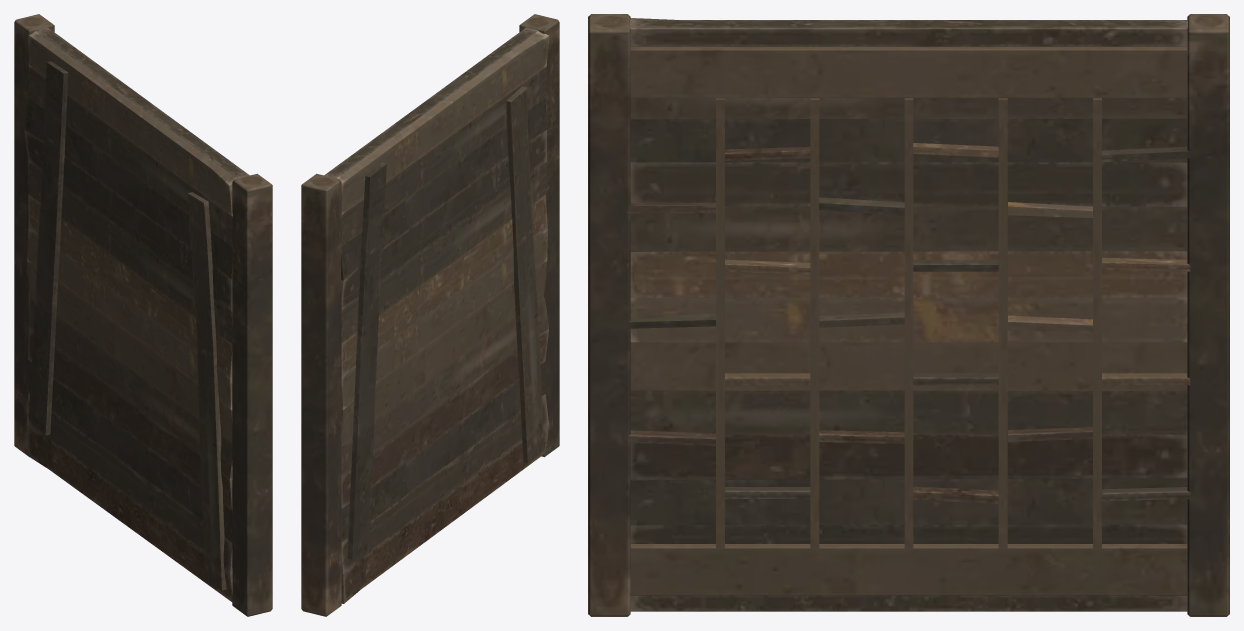
Rendered from wall.frontier.full_b.glb.
The picture shows the model from 3 angles, left to right: view 1: azimuth 30°, elevation 25°; view 2: azimuth 150°, elevation 25°; view 3: azimuth 270°, elevation 25°; orthographic projection. The views are drawn at different scales.
Parts seen in each view (by area): view 1: wall_b_LOD0; view 2: wall_b_LOD0; view 3: wall_b_LOD0.
Boxes of the visible parts, left/top/right/bottom form: wall_b_LOD0: left=14, top=14, right=272, bottom=616; wall_b_LOD0: left=301, top=14, right=559, bottom=616; wall_b_LOD0: left=588, top=14, right=1229, bottom=616.
Bounding box in the file's own units: 0.2363 × 3.03 × 3.
1 material, 1 textured.
